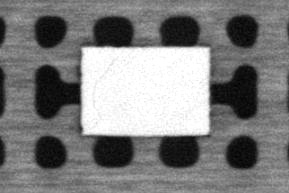DIE_CRACK: (91, 55, 116, 121)
